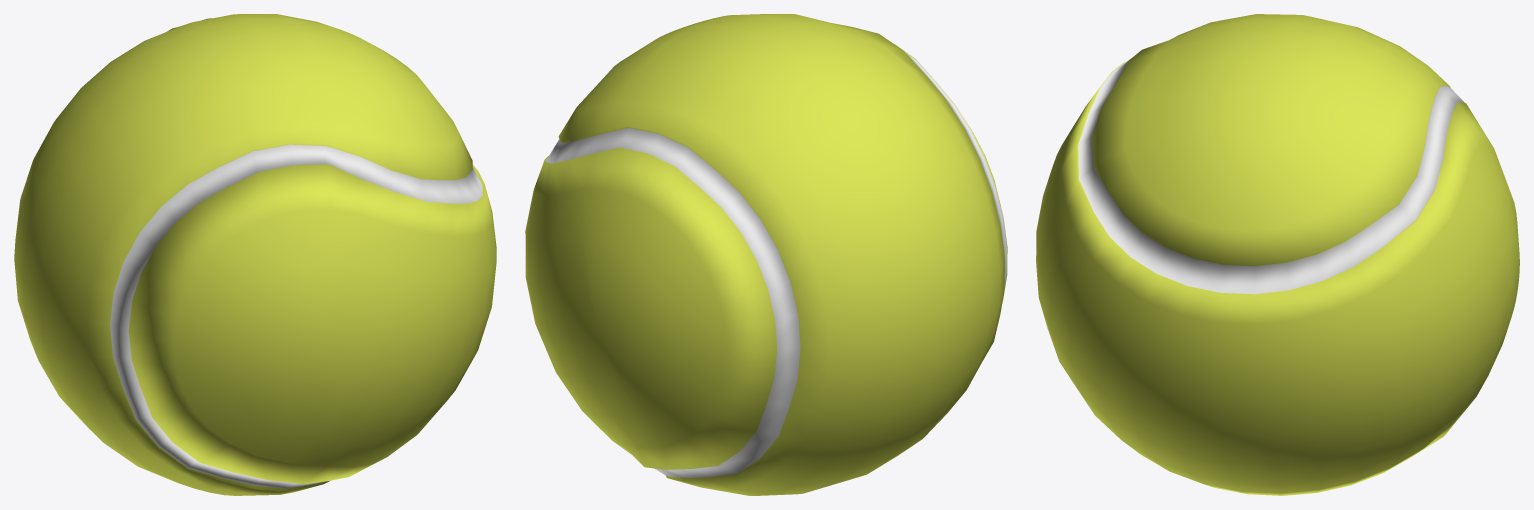
The model's file is Tennis_ball.fbx.
3 renders of one model, left to right at view 1: azimuth 30°, elevation 25°; view 2: azimuth 150°, elevation 25°; view 3: azimuth 270°, elevation 25°, orthographic.
Visible parts, largest first — view 1: Sphere; view 2: Sphere; view 3: Sphere.
Boxes of the visible parts, bbox=[...] form: Sphere: bbox=[14, 14, 496, 495]; Sphere: bbox=[525, 14, 1007, 495]; Sphere: bbox=[1036, 14, 1519, 495].
Size of the model in its own units: 200 by 200 by 199.
